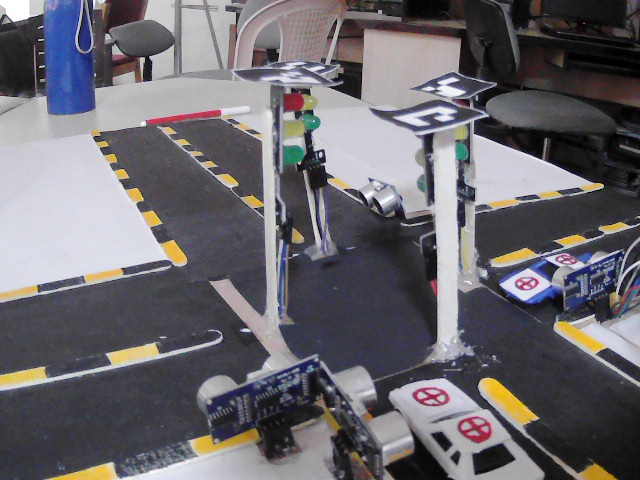aruco_marker: (369, 99, 489, 138), (419, 69, 497, 101), (235, 67, 316, 86), (262, 57, 337, 76)
emergency_vehicle: (390, 375, 547, 480), (498, 251, 596, 312)
traffic_light: (273, 92, 304, 233), (301, 92, 331, 191), (455, 124, 476, 225), (411, 135, 436, 212)
uno_breadboard: (199, 352, 323, 451), (318, 366, 414, 477), (556, 244, 630, 318), (358, 179, 408, 219)
